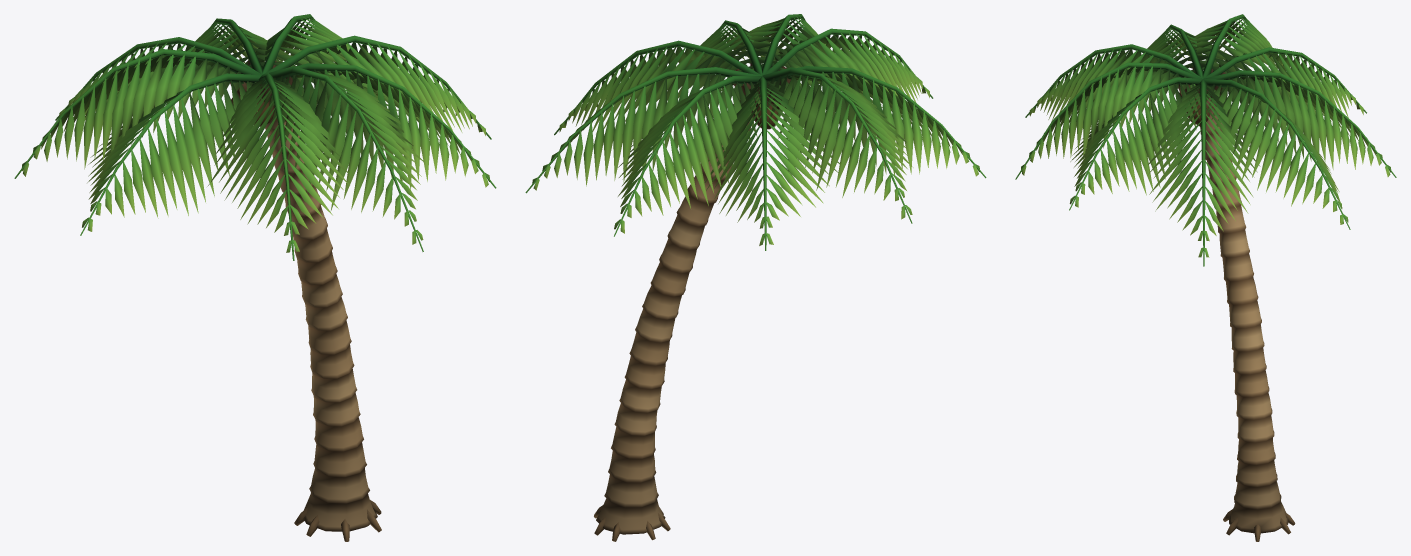
The model's file is tree-palm-v2.glb.
3 renders of one model, left to right at view 1: azimuth 30°, elevation 25°; view 2: azimuth 150°, elevation 25°; view 3: azimuth 270°, elevation 25°, orthographic. The views are drawn at different scales.
Visible parts, largest first — view 1: 1_leaves, 0_trunk; view 2: 1_leaves, 0_trunk; view 3: 1_leaves, 0_trunk.
Boxes of the visible parts, left/top/right/bottom form: 1_leaves: left=14, top=14, right=496, bottom=260; 0_trunk: left=260, top=84, right=381, bottom=541; 1_leaves: left=525, top=14, right=986, bottom=250; 0_trunk: left=594, top=83, right=768, bottom=541; 1_leaves: left=1015, top=14, right=1396, bottom=266; 0_trunk: left=1196, top=89, right=1295, bottom=541.
Bounding box in the file's own units: 5.26 × 6.05 × 4.85.
